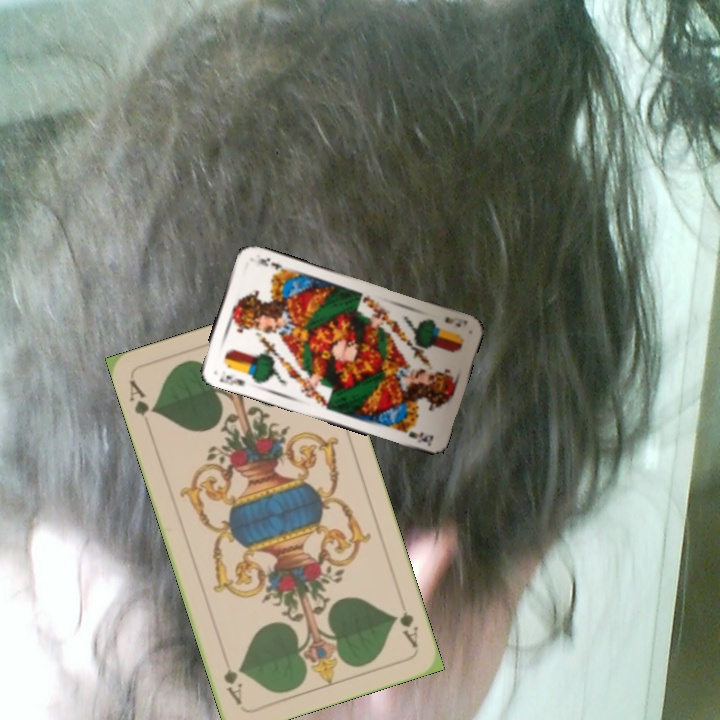EK: (215, 367, 247, 389), (441, 313, 470, 330)
GA: (390, 593, 421, 651), (125, 375, 158, 419)
